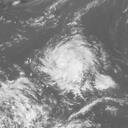cyclone: (43, 35, 104, 95)
